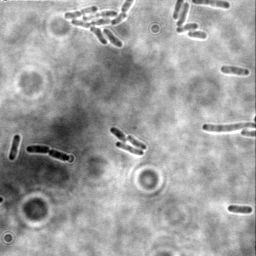Dividing: (25, 144, 70, 162)
Microcolony: (63, 1, 137, 50), (171, 1, 207, 41)
Rod: (201, 122, 255, 134), (115, 140, 145, 157), (219, 64, 251, 77), (7, 133, 21, 162), (226, 203, 254, 215), (126, 134, 147, 150), (108, 126, 128, 141)
